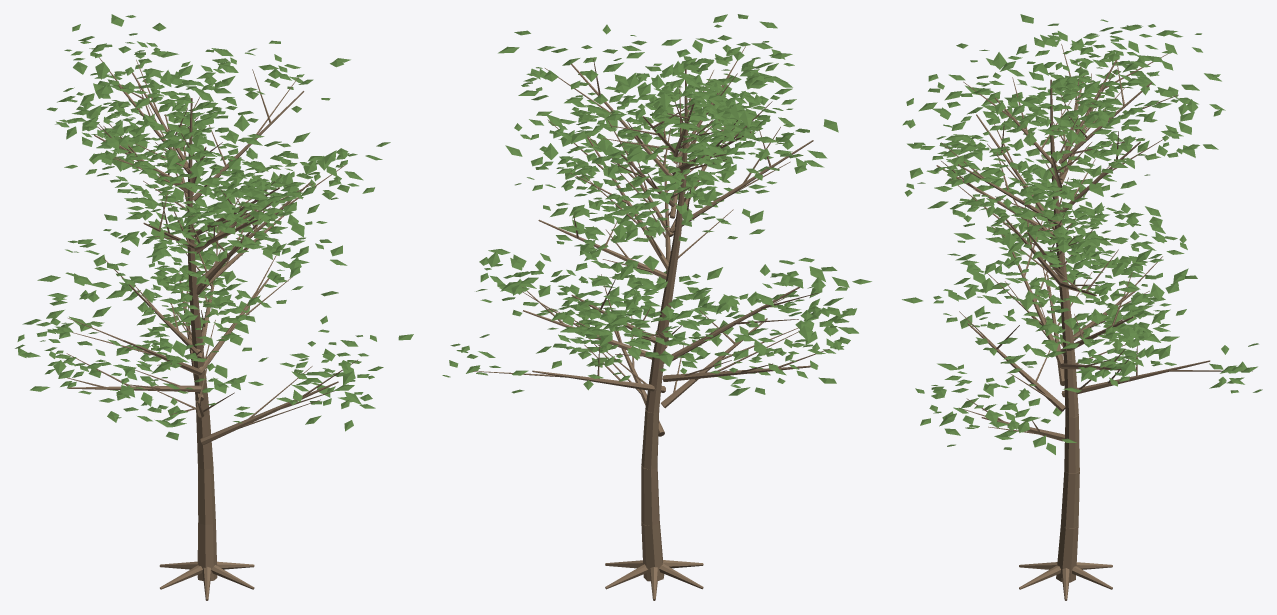
File: birch.glb
The picture shows the model from 3 angles, left to right: view 1: azimuth 30°, elevation 25°; view 2: azimuth 150°, elevation 25°; view 3: azimuth 270°, elevation 25°; orthographic projection. The views are drawn at different scales.
Visible parts, largest first — view 1: birch; view 2: birch; view 3: birch.
Part boxes in pixels (x1,y1,x2,y2): birch: [15, 14, 413, 600]; birch: [442, 14, 871, 600]; birch: [902, 14, 1262, 600].
Size of the model in its own units: 8.6 by 13.08 by 8.11.
